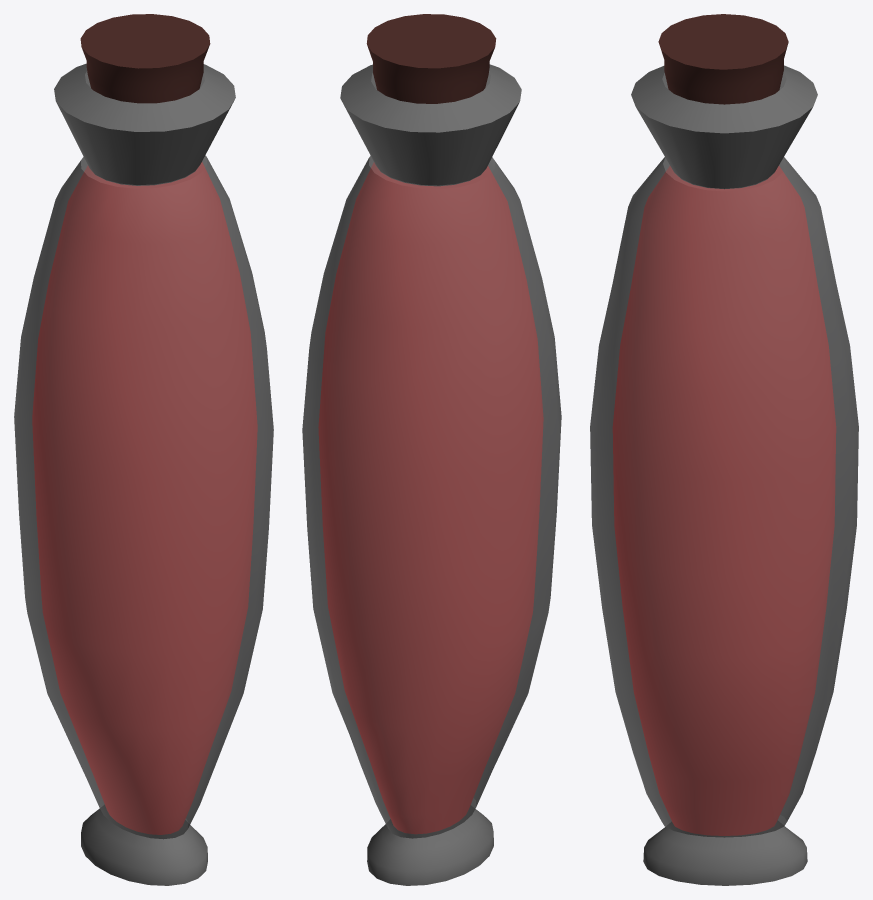
Rendered from HP_Potion.fbx.
3 renders of one model, left to right at view 1: azimuth 30°, elevation 25°; view 2: azimuth 150°, elevation 25°; view 3: azimuth 270°, elevation 25°, orthographic.
Parts seen in each view (by area): view 1: polySurface2; view 2: polySurface2; view 3: polySurface2.
Part boxes in pixels (x1,y1,x2,y2): polySurface2: [14, 14, 273, 885]; polySurface2: [302, 14, 561, 885]; polySurface2: [590, 14, 858, 885].
Bounding box in the file's own units: 2.75 × 9.53 × 2.83.
